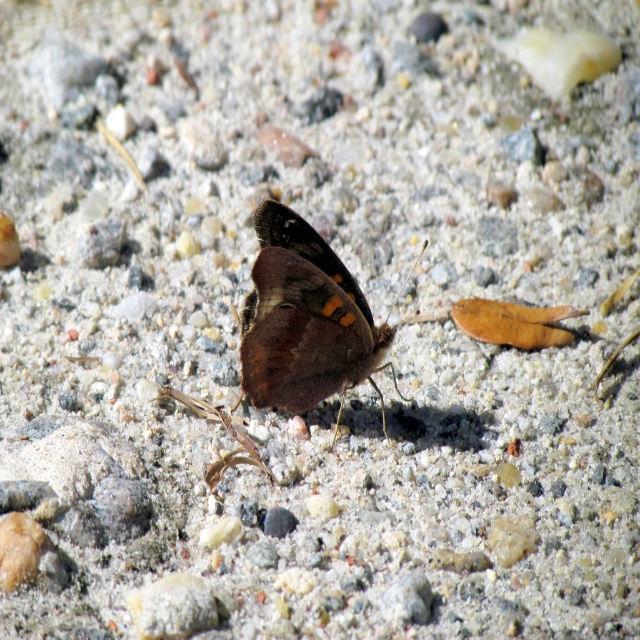Butterfly: (238, 195, 429, 451)
